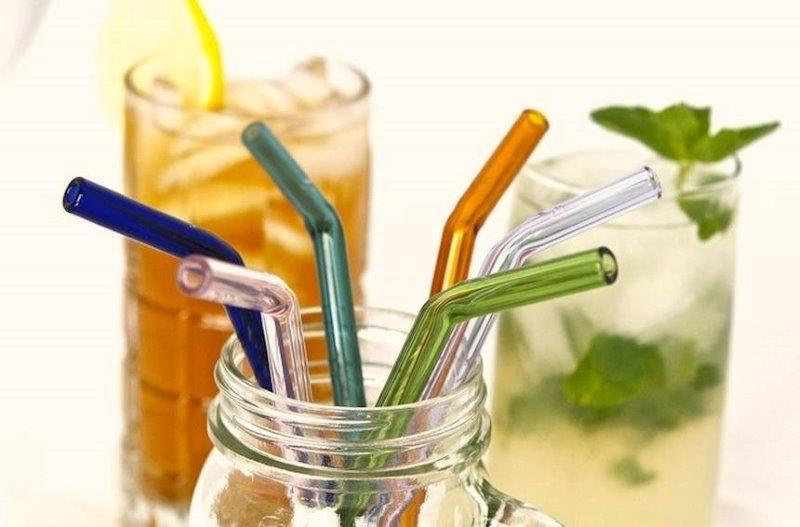glass: (122, 43, 378, 527), (489, 138, 744, 527), (383, 168, 660, 507), (189, 304, 565, 527), (343, 246, 620, 516), (396, 110, 552, 515), (64, 177, 282, 416), (172, 248, 332, 527)
